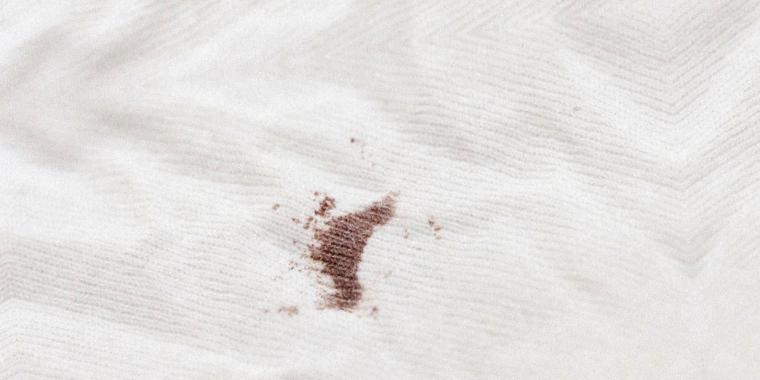stain: (302, 188, 399, 318)
